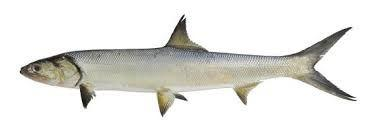Tenpounder: (21, 12, 357, 116)
